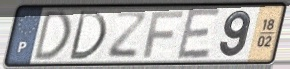9: (217, 8, 253, 60)
D: (31, 8, 74, 63), (66, 9, 109, 62)
E: (174, 7, 223, 62)
F: (141, 10, 186, 60)
Z: (105, 10, 150, 60)
